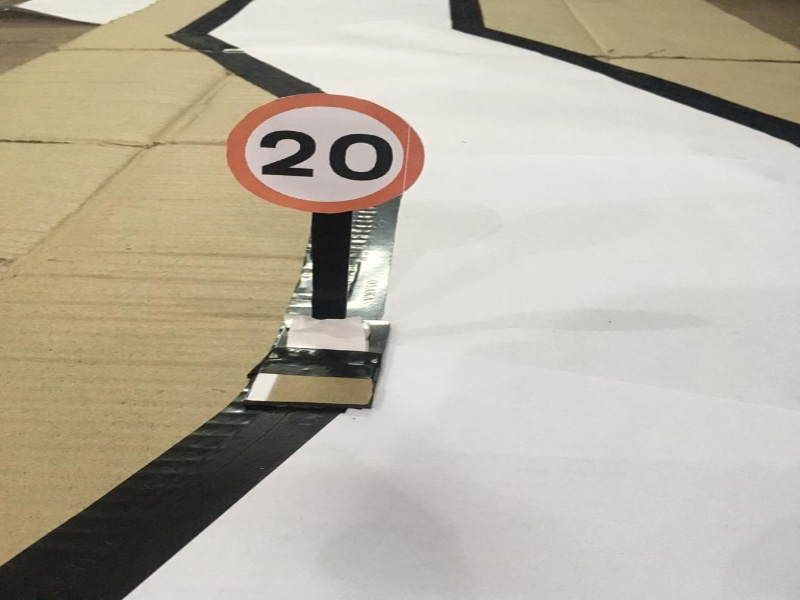Speed Limit 20: (223, 87, 430, 214)
